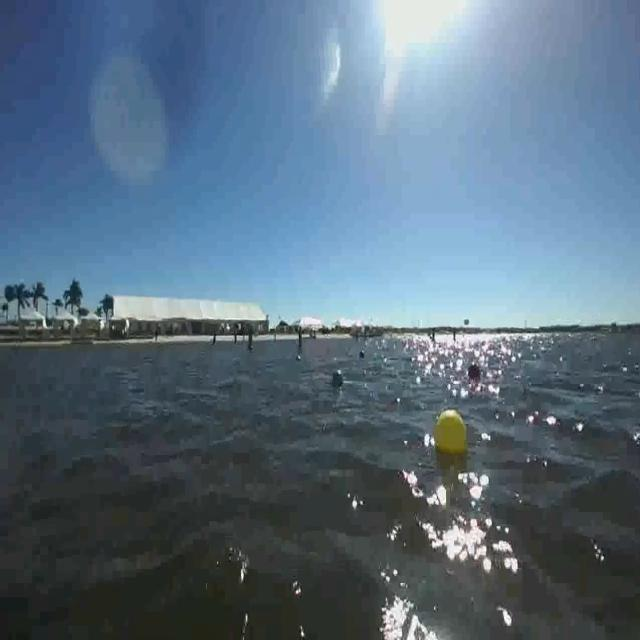yellow-buoy: (434, 408, 470, 459)
